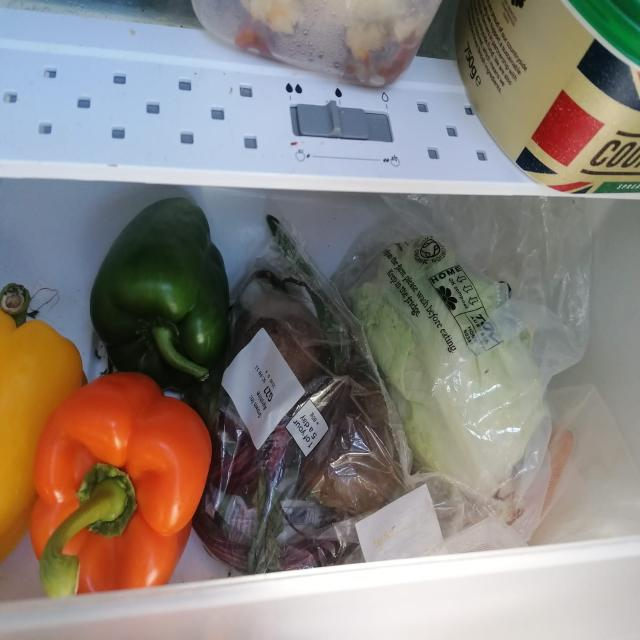Lechuga/Endivia: (377, 247, 543, 495)
Mantequilla: (462, 0, 640, 198)
pepper: (44, 380, 210, 602), (87, 203, 235, 371), (2, 285, 86, 561)
